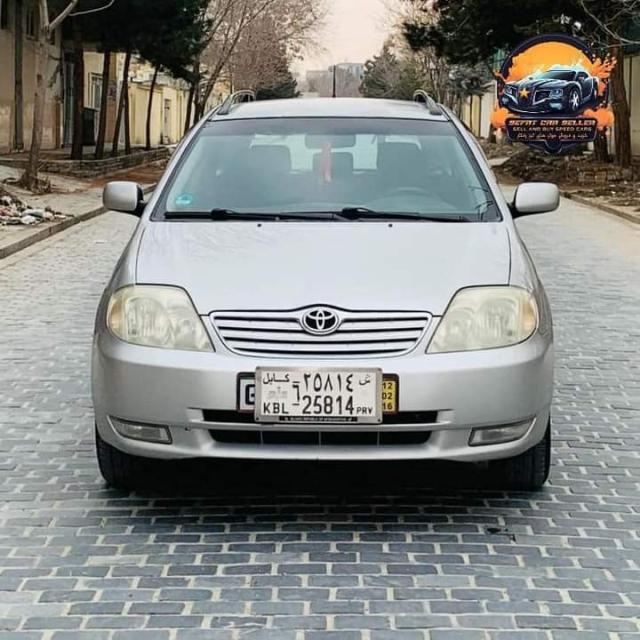Plate: (254, 368, 382, 422)
